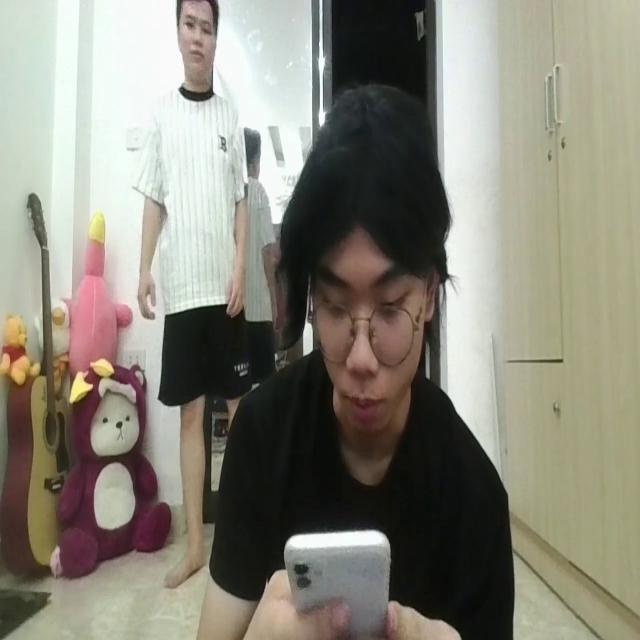extra_person: (136, 0, 250, 577)
phone: (283, 514, 393, 640)
student: (217, 83, 514, 640)
